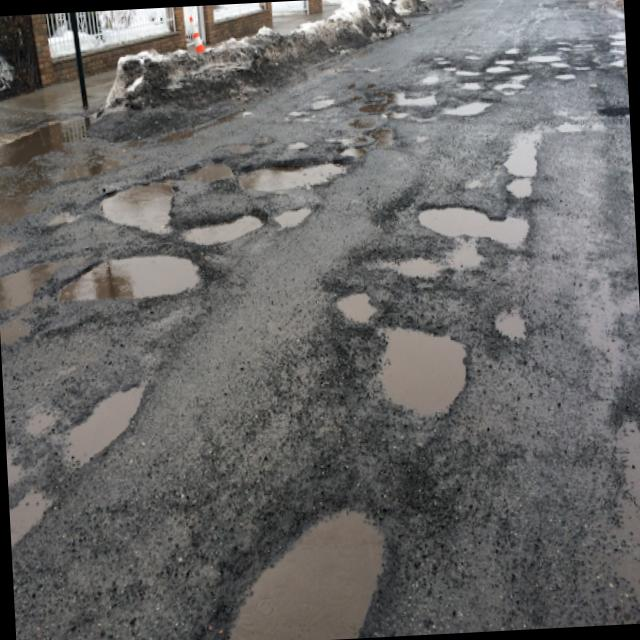Potholes: (200, 489, 459, 640), (89, 142, 364, 259), (2, 361, 167, 547), (380, 26, 630, 121), (328, 280, 477, 434), (408, 189, 553, 289), (48, 240, 220, 320), (0, 232, 93, 358), (493, 121, 563, 208), (590, 96, 630, 134)
